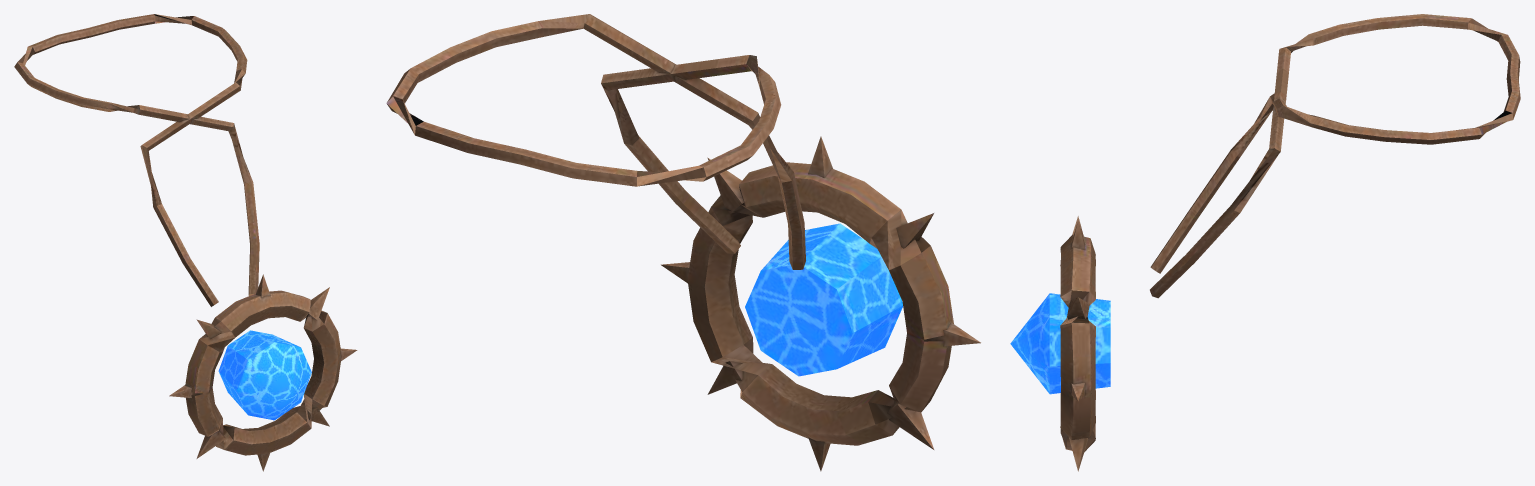
Rendered from Amuleto_de_Cristal_Arcano_nivel75.glb.
3 renders of one model, left to right at view 1: azimuth 30°, elevation 25°; view 2: azimuth 150°, elevation 25°; view 3: azimuth 270°, elevation 25°, orthographic. The views are drawn at different scales.
Visible parts, largest first — view 1: amuleto_de_cristal_arcano_nivel75; view 2: amuleto_de_cristal_arcano_nivel75; view 3: amuleto_de_cristal_arcano_nivel75.
Boxes of the visible parts, x1,y1,x2,y2 form: amuleto_de_cristal_arcano_nivel75: (14,14,357,471); amuleto_de_cristal_arcano_nivel75: (386,14,980,471); amuleto_de_cristal_arcano_nivel75: (1010,14,1520,471).
Bounding box in the file's own units: 0.1584 × 0.2371 × 0.2772.
Materials: 1 (1 with a texture image).
